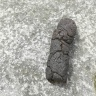Dog: (46, 15, 77, 83)
